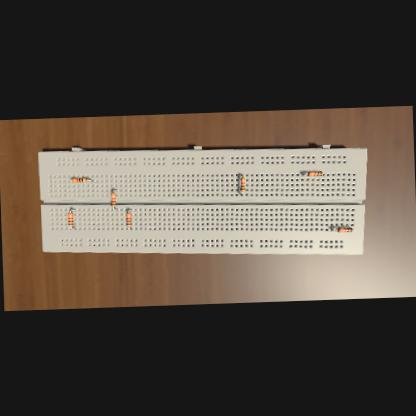breadboard: (37, 137, 370, 265)
resistor: (68, 212, 74, 226), (336, 228, 352, 233), (306, 171, 322, 176), (70, 177, 86, 182), (126, 212, 131, 226), (110, 192, 115, 206), (240, 177, 245, 191)
wire: (330, 228, 336, 230), (112, 207, 116, 210), (70, 226, 75, 228), (70, 210, 74, 212), (128, 226, 131, 228), (128, 209, 130, 212), (112, 190, 115, 192), (301, 173, 307, 174), (240, 192, 242, 194), (240, 175, 242, 177), (352, 230, 354, 231), (322, 174, 324, 174), (84, 180, 92, 180)
